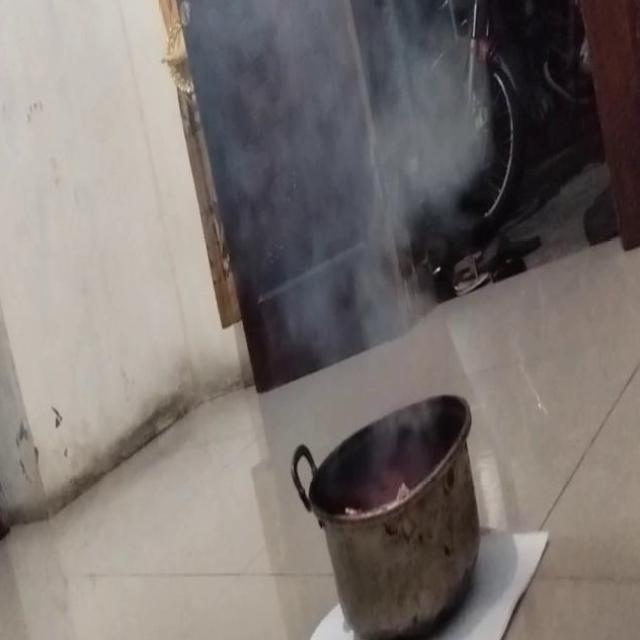fire: (199, 11, 454, 292)
